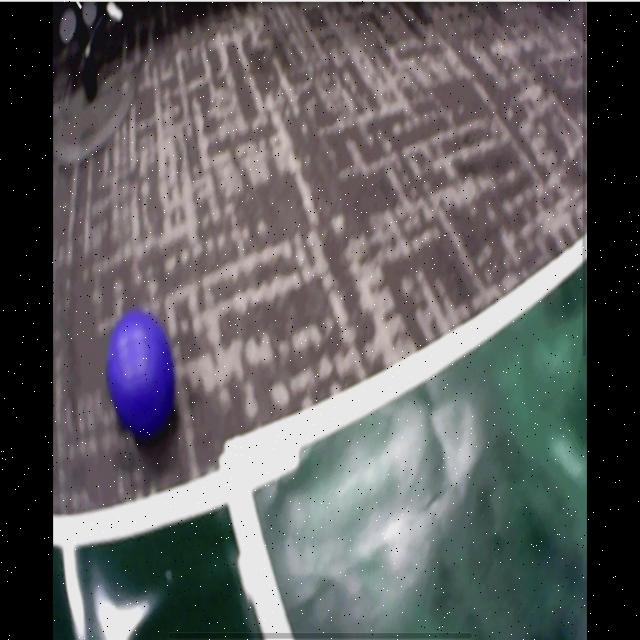ball: (106, 311, 178, 437)
